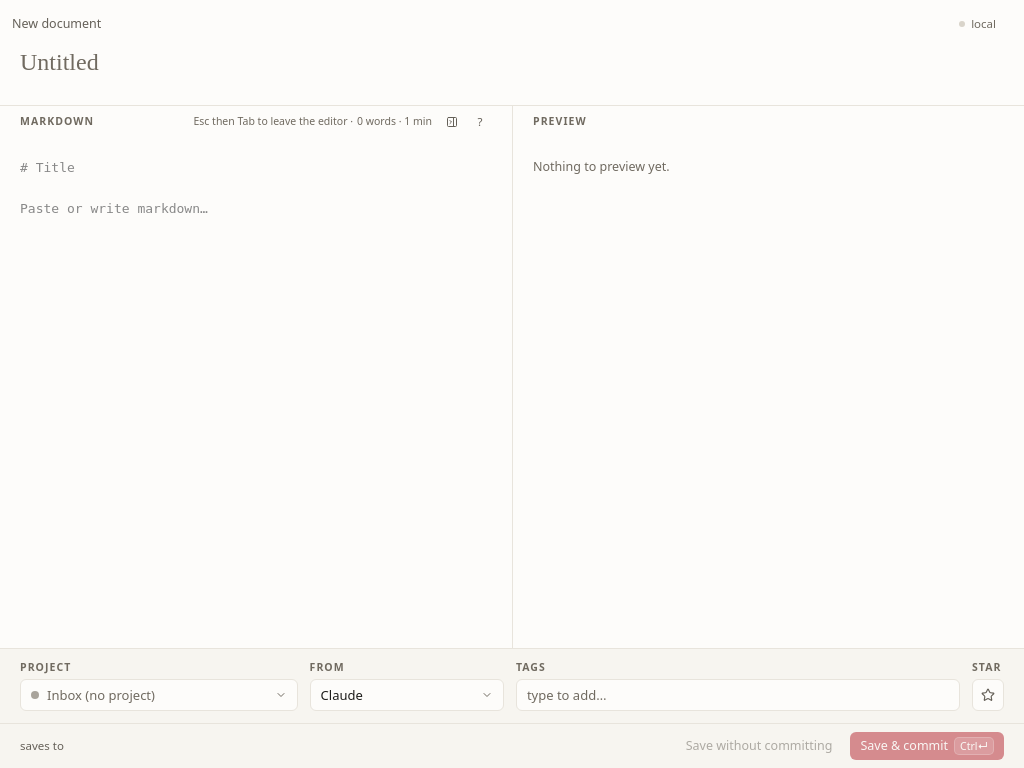
Test: Editor › the unsaved-changes prompt › says why an emptied document can't be saved
Note: Only the metadata changed: dirty, but there is no text to write.
Type "Later" into the field labelled "title". click: (512, 63)
box: [20, 48, 1004, 79]
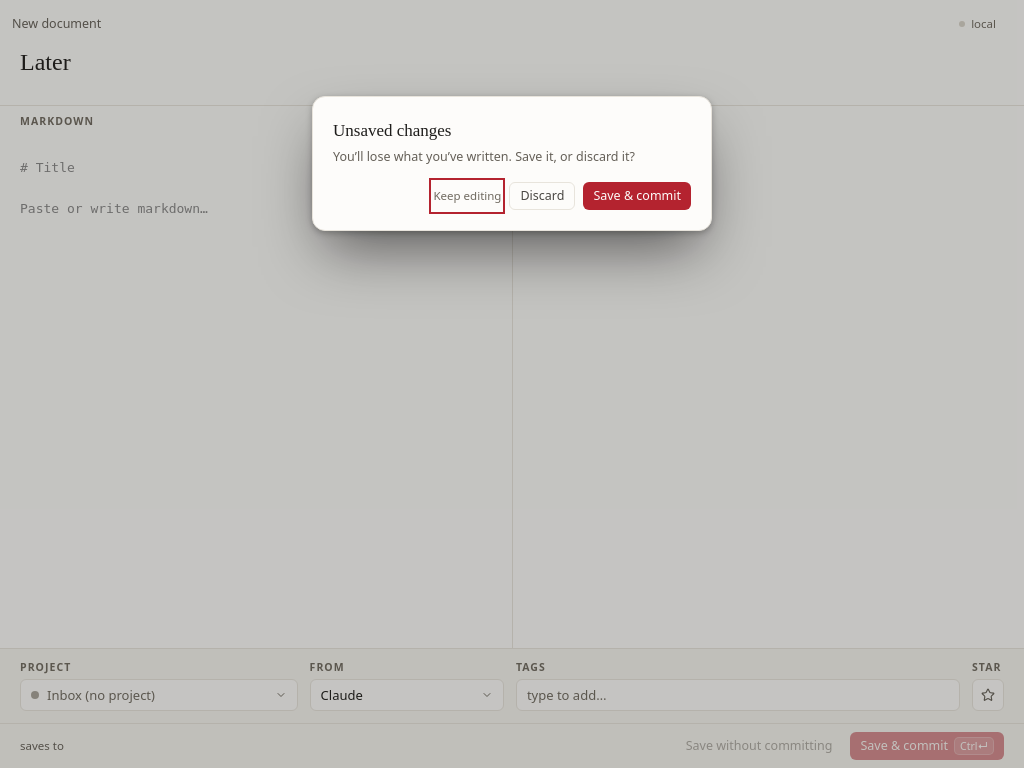
Click the button "Save & commit". click: (637, 196)
box: [583, 182, 691, 210]
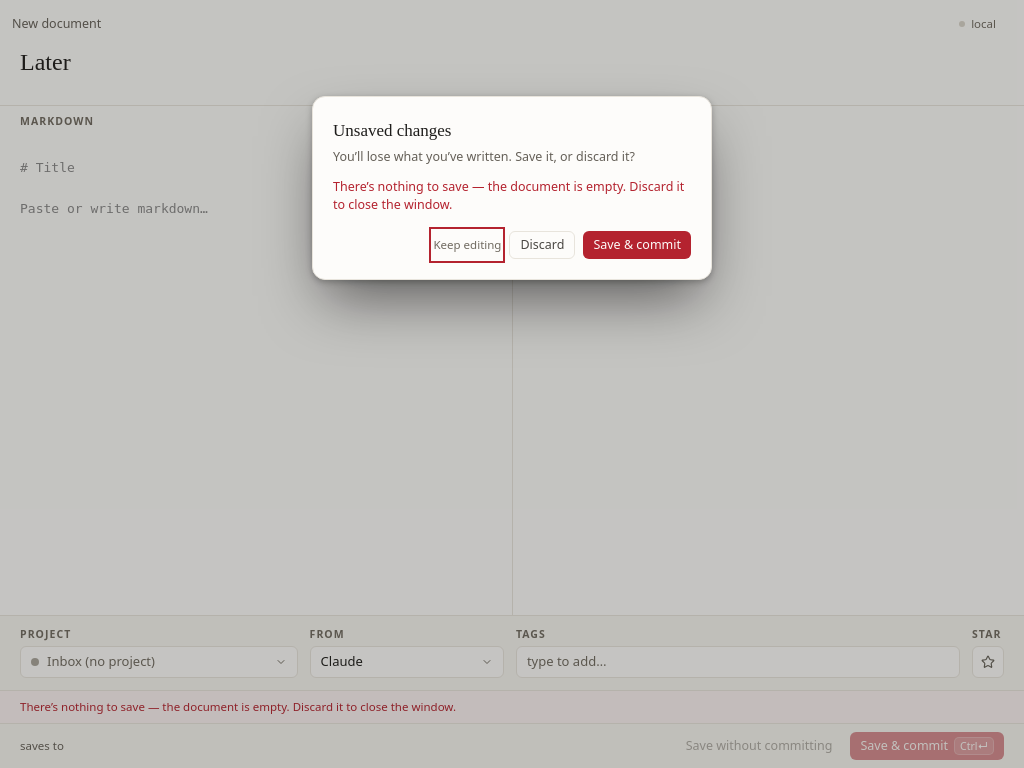
Check: the message shows "nothing to save", box [333, 178, 684, 213]
